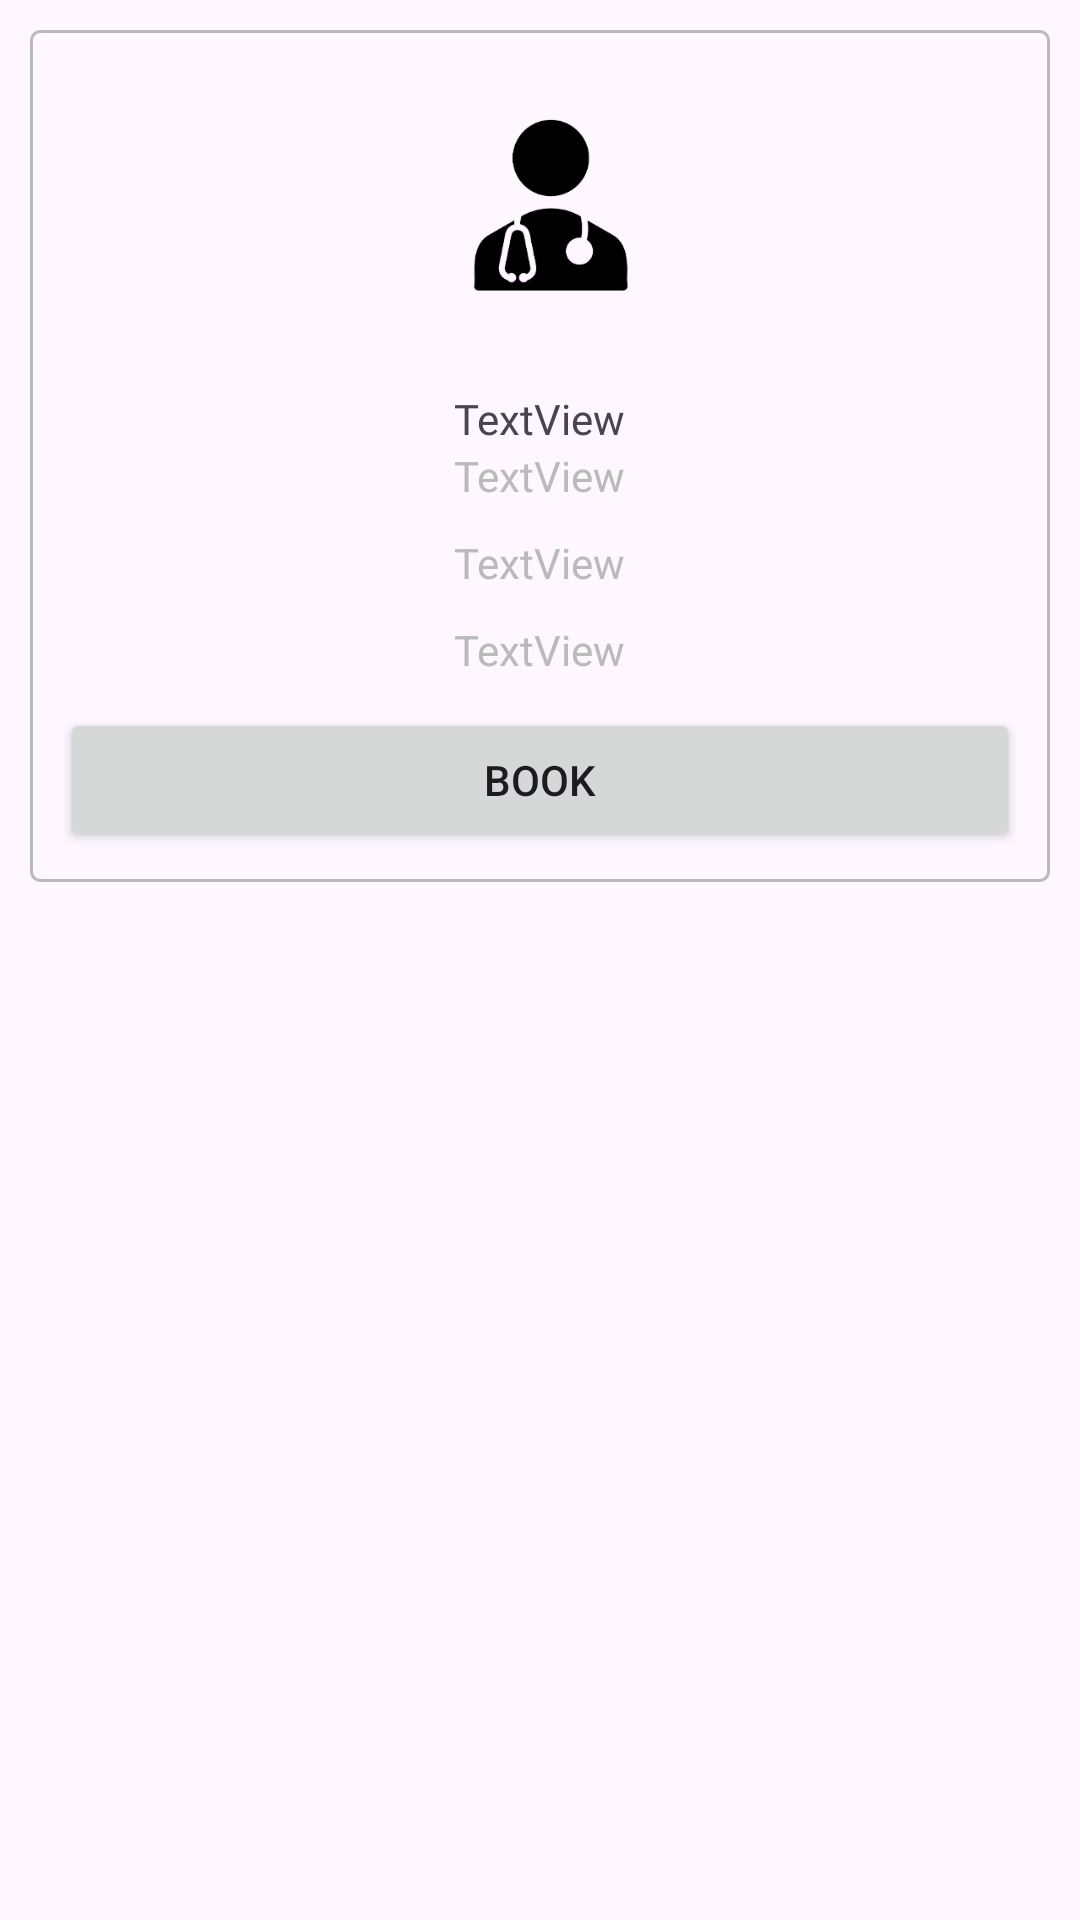

Named icons in this screenshot (1080w x 1920h) and their centers, [x,y]:
doc: [551,205]
